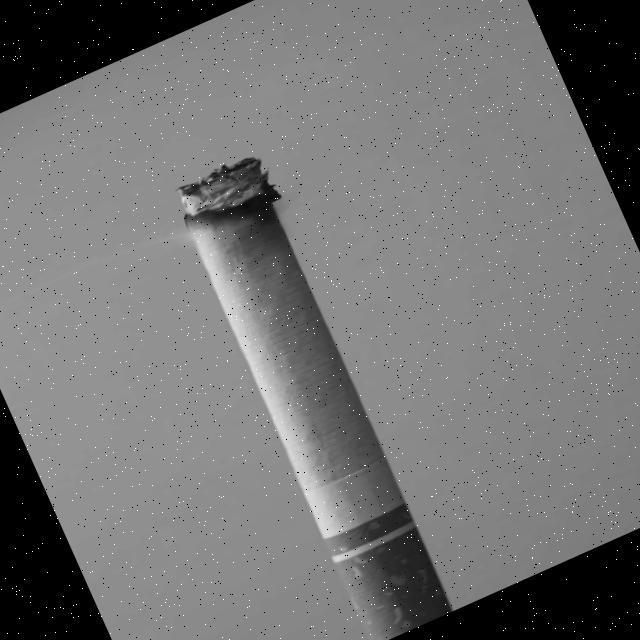cigarette: (159, 149, 458, 640)
